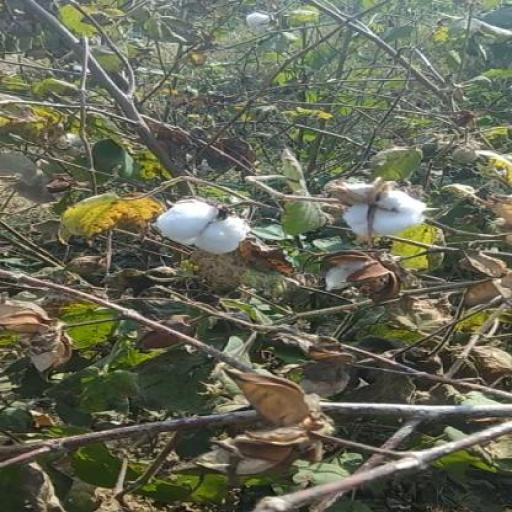cotton_ready: (299, 172, 442, 238), (160, 190, 266, 260)
